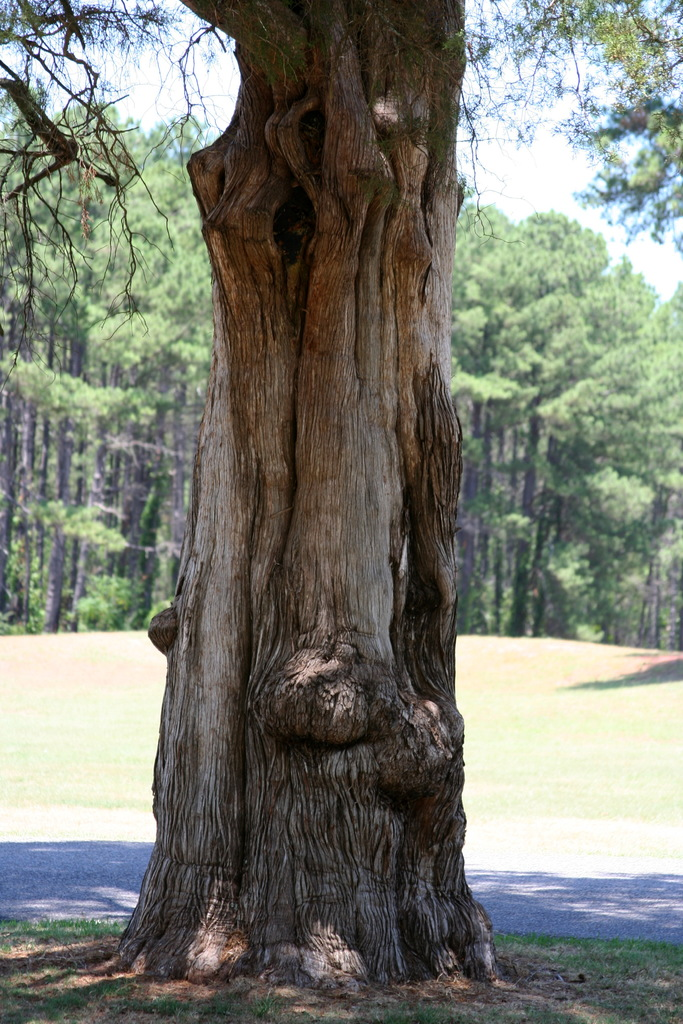Tree: (0, 1, 682, 1002)
